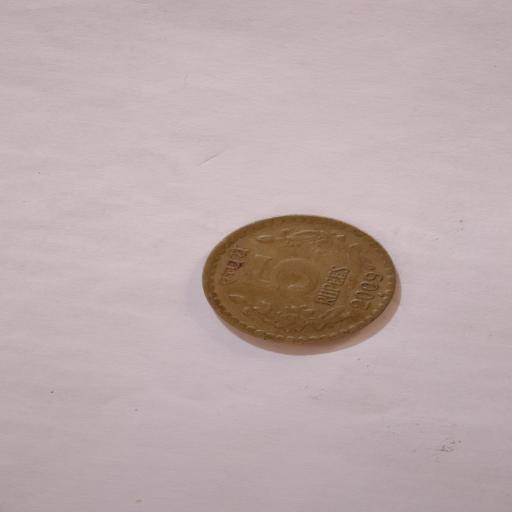rupee5: (200, 215, 399, 346)
